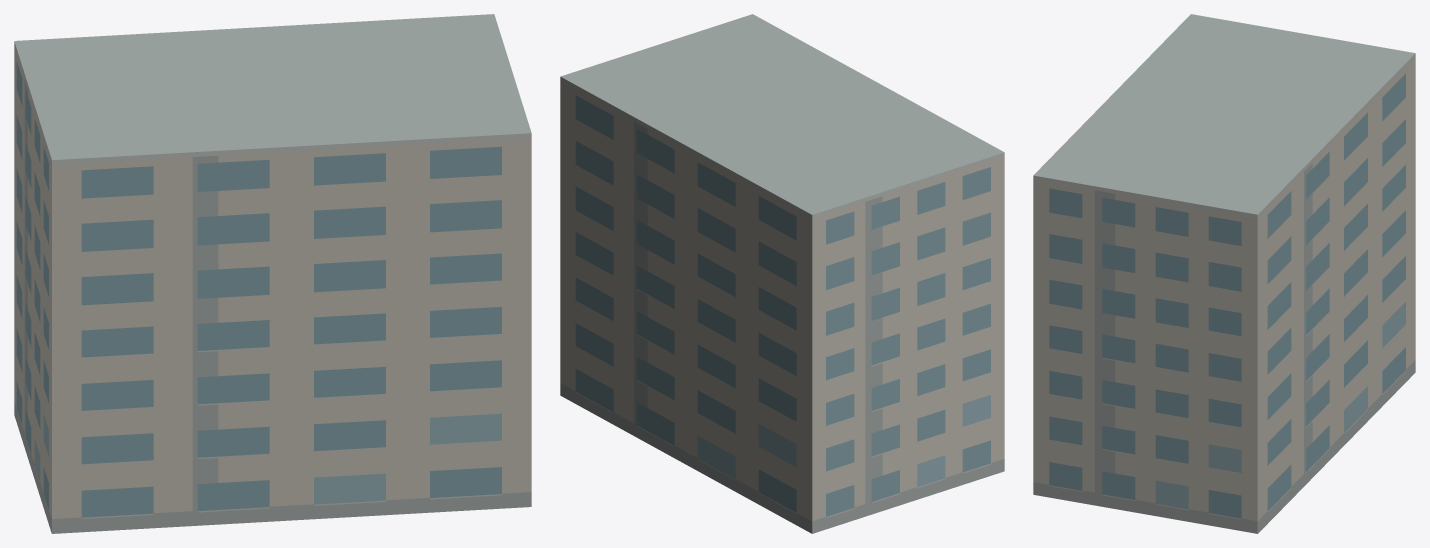
Rendered from residential-d7373d6a-3ed5-47fc-b964-988e66c54b91.glb.
3 renders of one model, left to right at view 1: azimuth 30°, elevation 25°; view 2: azimuth 150°, elevation 25°; view 3: azimuth 270°, elevation 25°, orthographic. The views are drawn at different scales.
Parts seen in each view (by area): view 1: residential-d7373d6a-3ed5-47fc-b964-988e66c54b91.tmp; view 2: residential-d7373d6a-3ed5-47fc-b964-988e66c54b91.tmp; view 3: residential-d7373d6a-3ed5-47fc-b964-988e66c54b91.tmp.
Boxes of the visible parts, bbox=[...] form: residential-d7373d6a-3ed5-47fc-b964-988e66c54b91.tmp: bbox=[14, 14, 531, 533]; residential-d7373d6a-3ed5-47fc-b964-988e66c54b91.tmp: bbox=[560, 14, 1004, 533]; residential-d7373d6a-3ed5-47fc-b964-988e66c54b91.tmp: bbox=[1033, 14, 1415, 533].
Size of the model in its own units: 25.63 by 19 by 20.64.
